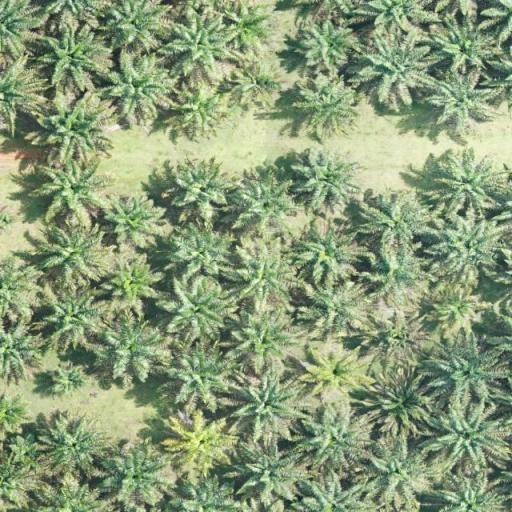Ganoderma: (312, 352, 358, 392), (178, 425, 224, 460)
